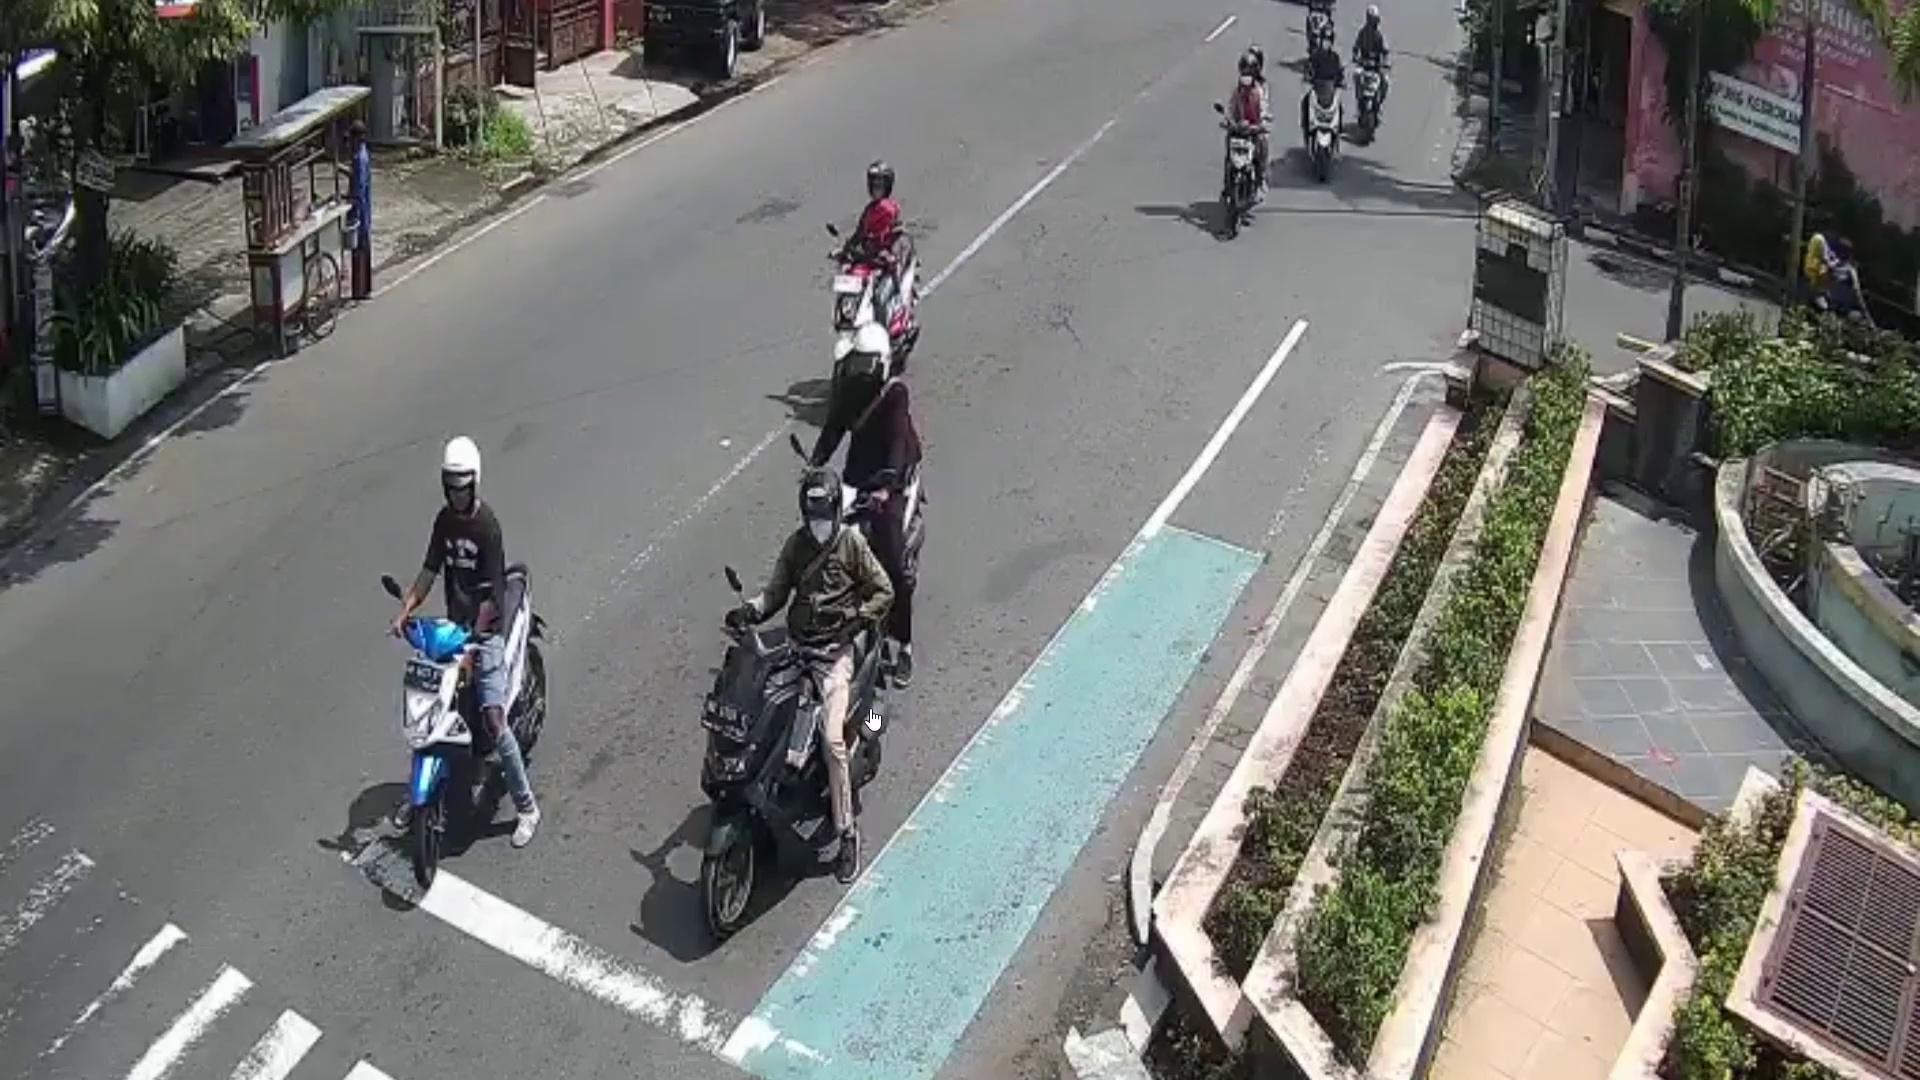motorbike: (699, 607, 885, 943), (400, 560, 546, 890), (831, 227, 914, 378), (1305, 70, 1342, 187), (1222, 116, 1258, 235)
